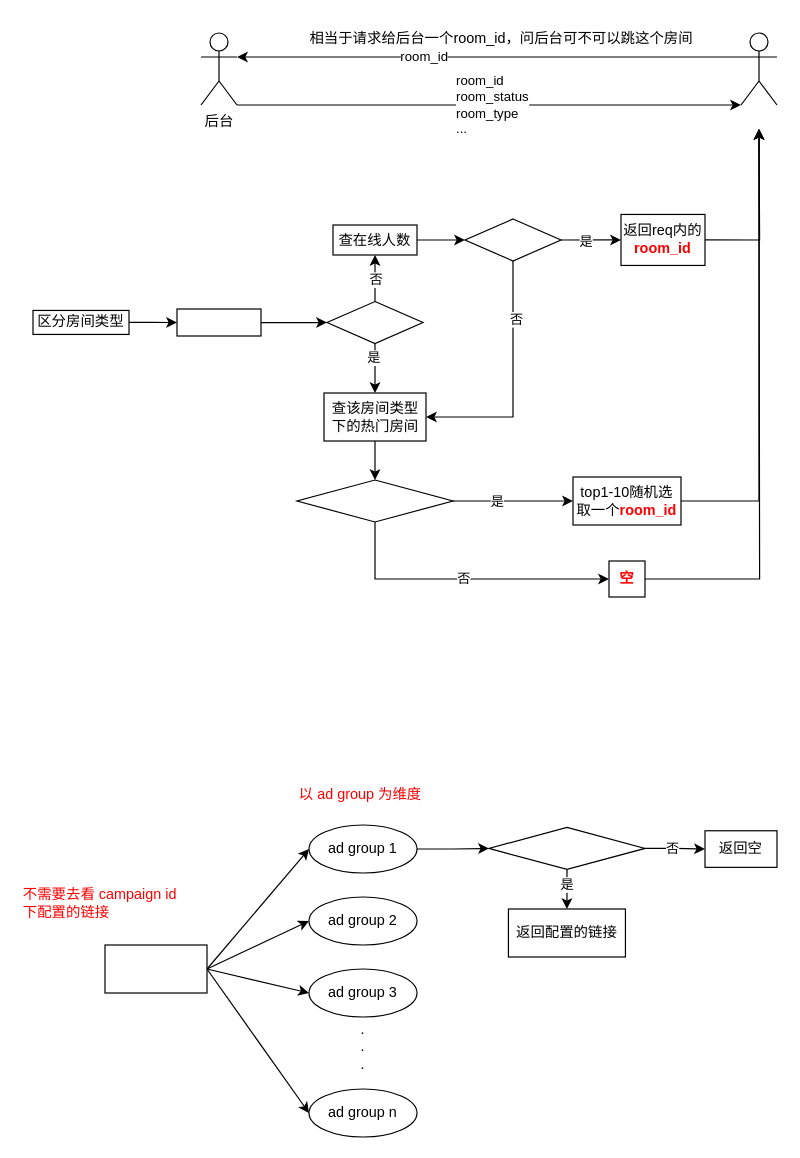
This 800x1158 diagram has some shape labels left out. Here are the shapes that lost their labels. From the top down, the box of each, then its label:
(740, 32, 777, 105): 客户端
(464, 218, 561, 261): 是否达标
(176, 308, 261, 336): 查房间状态
(326, 300, 423, 344): 是否解散
(296, 479, 453, 522): 是否有热门房
(488, 826, 645, 869): 是否配置链接
(104, 944, 207, 993): campaign
